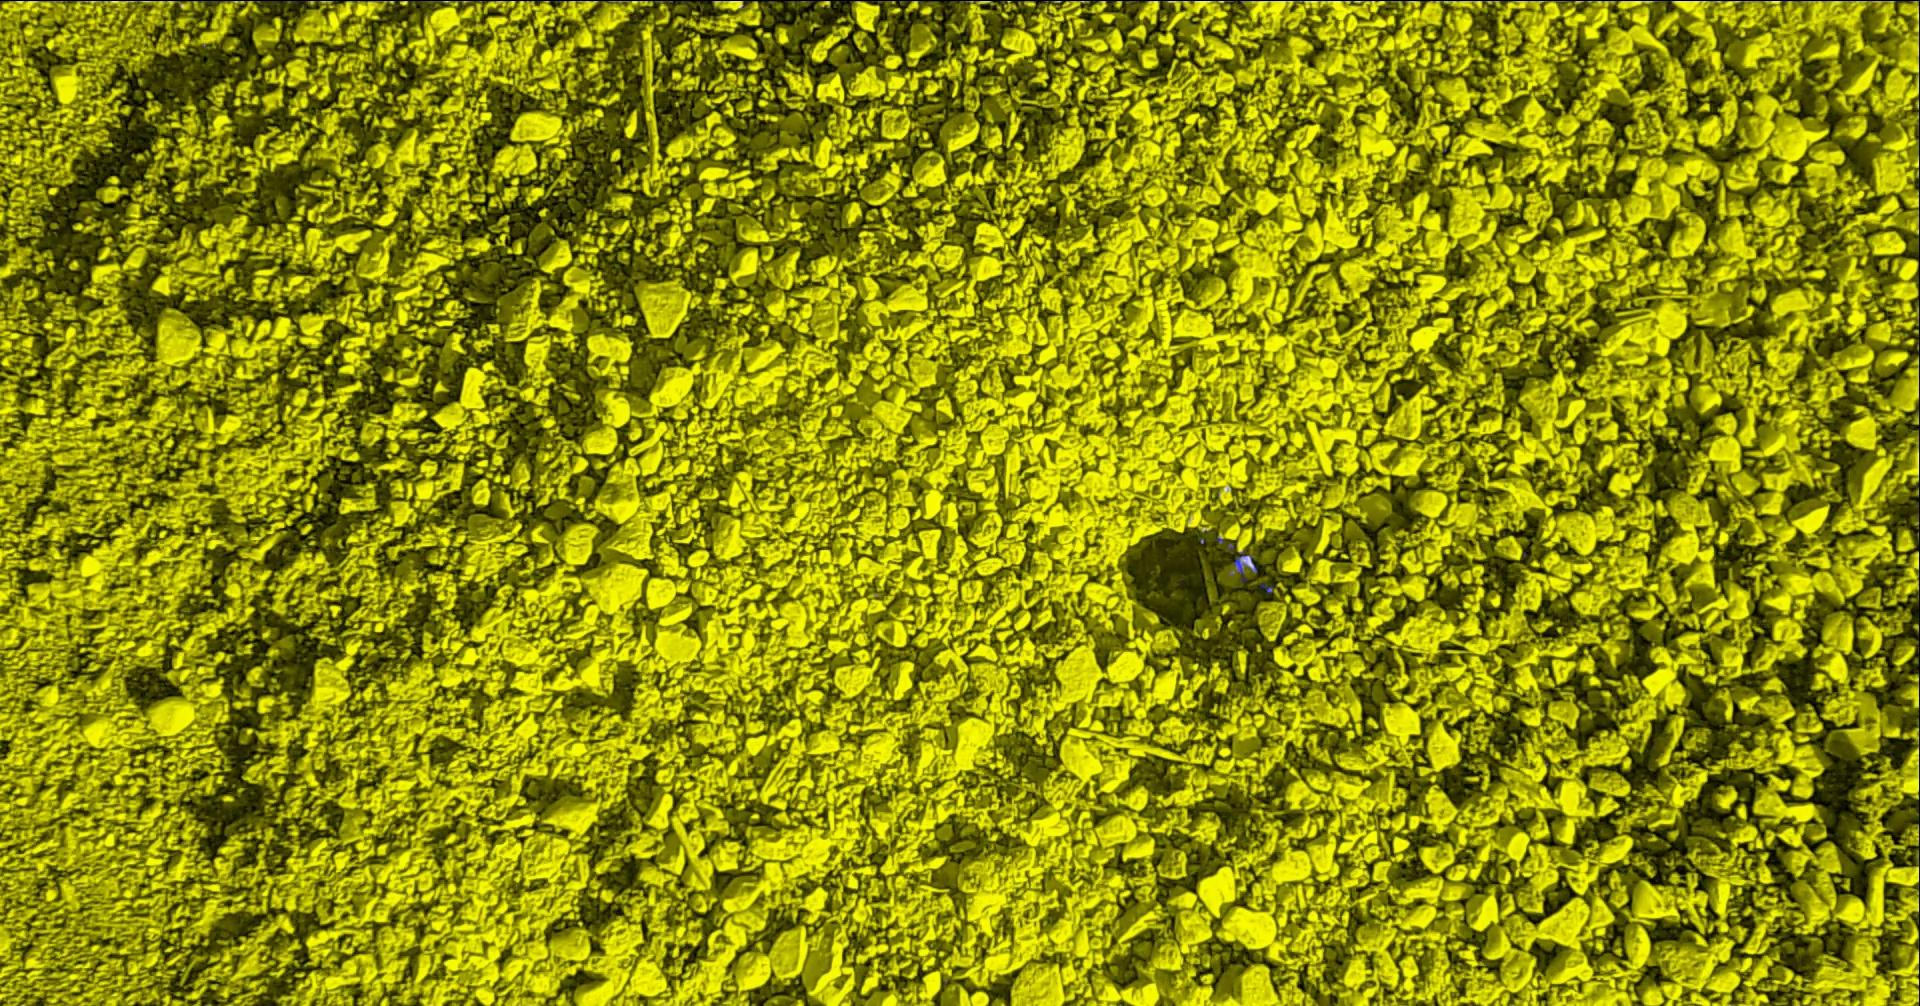ant: (1236, 550, 1258, 582)
